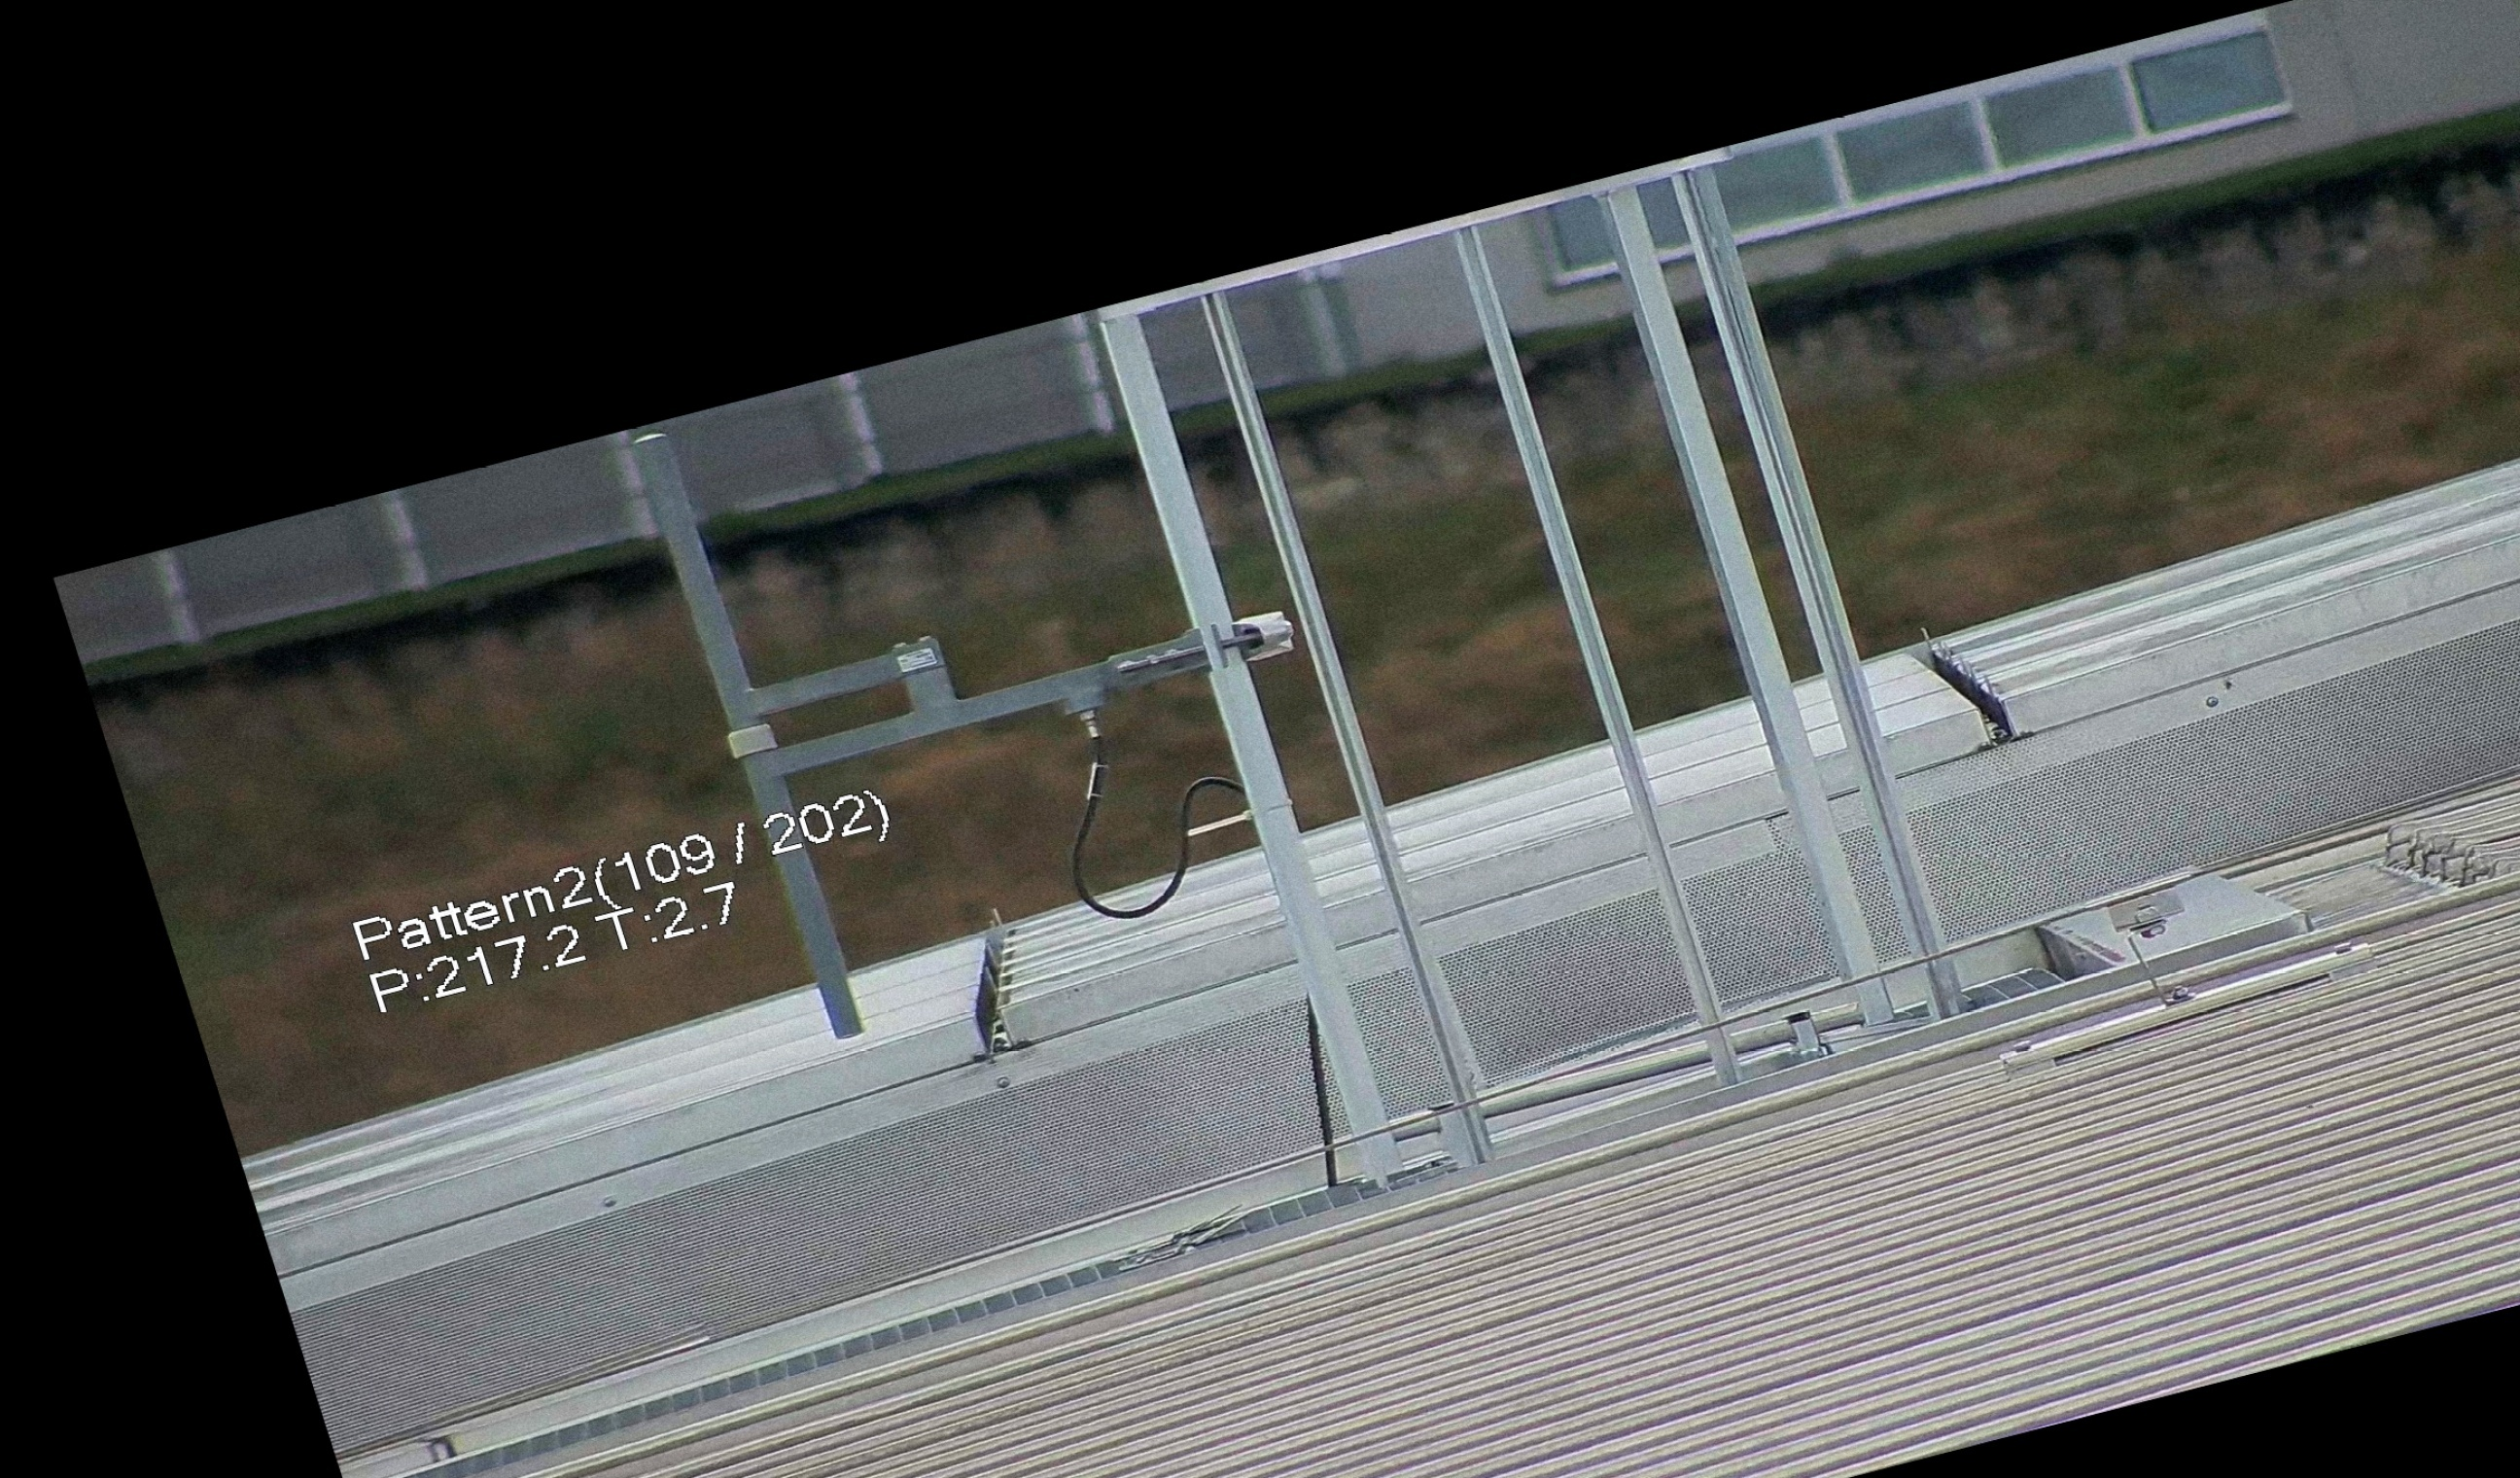Other: (1903, 611, 2038, 765)
